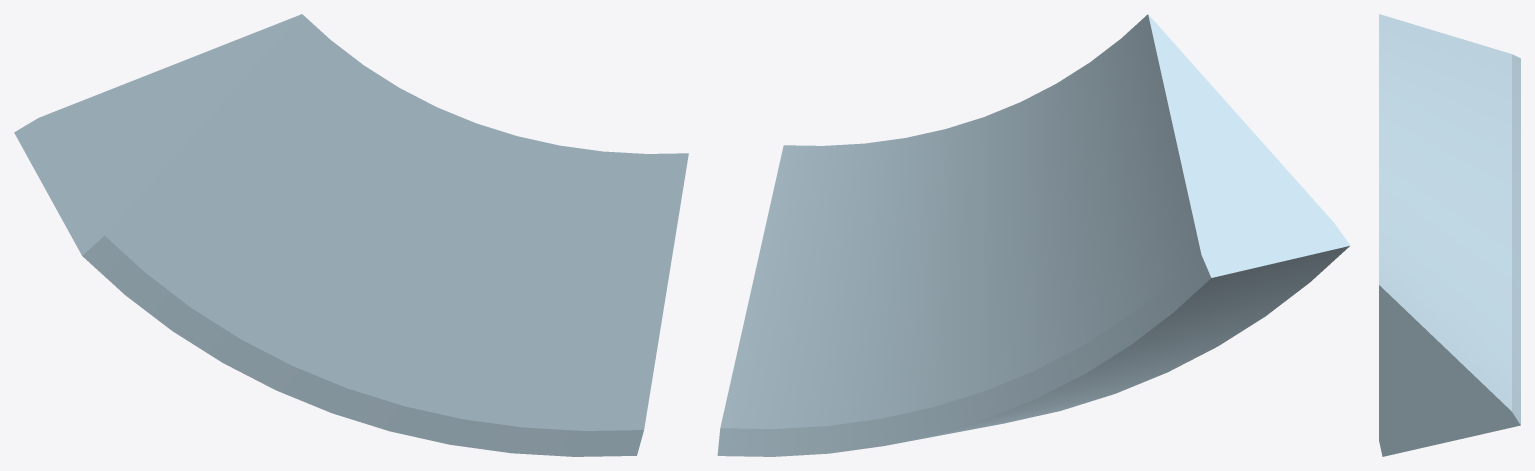
The model's file is Sub_8_Cell_2_2.gltf.
3 views of the same model, side by side, from view 1: azimuth 30°, elevation 25°; view 2: azimuth 150°, elevation 25°; view 3: azimuth 270°, elevation 25° (orthographic). The views are drawn at different scales.
Parts seen in each view (by area): view 1: Sub_8_Cell_2_2; view 2: Sub_8_Cell_2_2; view 3: Sub_8_Cell_2_2.
Part boxes in pixels (x1,y1,x2,y2): Sub_8_Cell_2_2: [14, 14, 688, 456]; Sub_8_Cell_2_2: [717, 14, 1350, 456]; Sub_8_Cell_2_2: [1379, 14, 1520, 456].
Bounding box in the file's own units: 0.1211 × 0.1008 × 0.0384.
